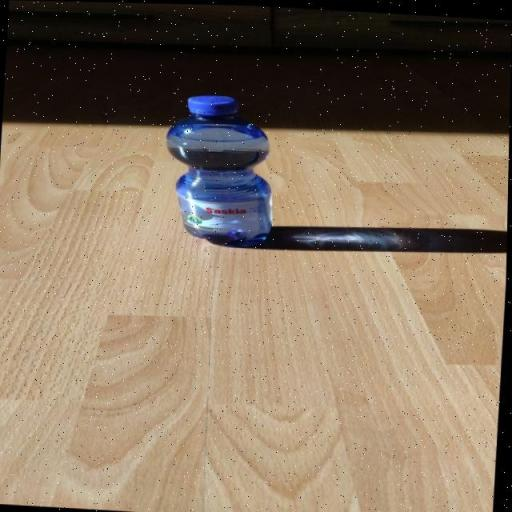plastic: (157, 90, 284, 248)
